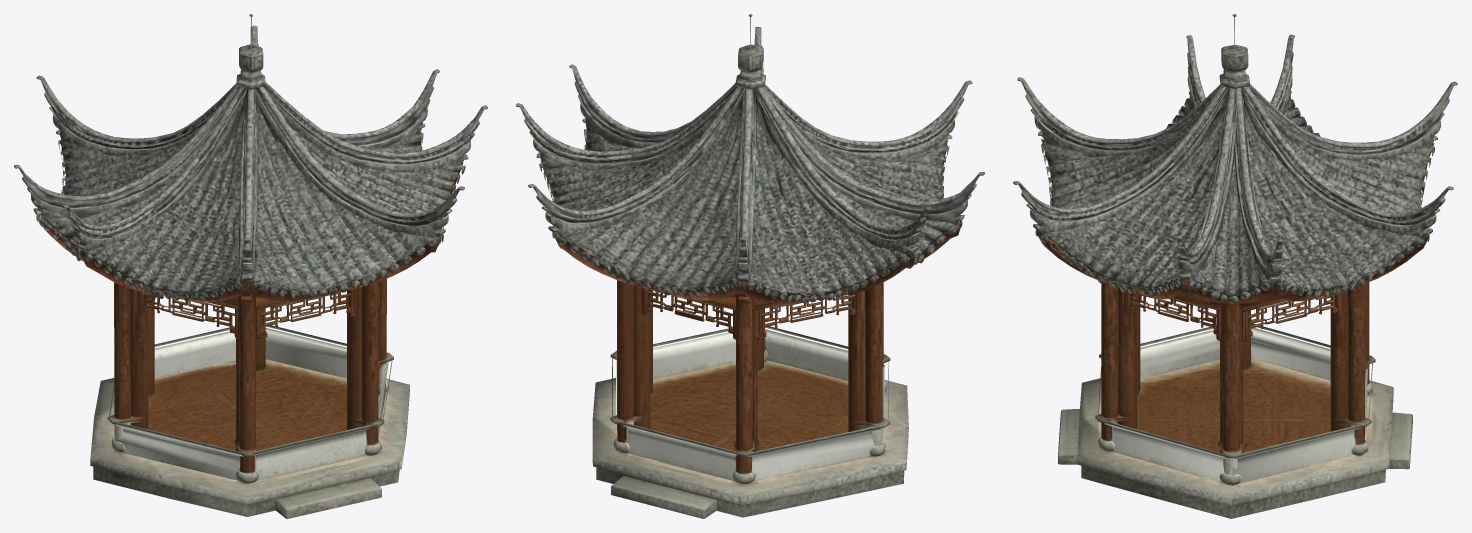
Rendered from station_0.glb.
The picture shows the model from 3 angles, left to right: view 1: azimuth 30°, elevation 25°; view 2: azimuth 150°, elevation 25°; view 3: azimuth 270°, elevation 25°; orthographic projection.
Parts seen in each view (by area): view 1: tripo_node_6d3cc7fc-00ab-4187-a01a-2e0920d70f90; view 2: tripo_node_6d3cc7fc-00ab-4187-a01a-2e0920d70f90; view 3: tripo_node_6d3cc7fc-00ab-4187-a01a-2e0920d70f90.
Boxes of the visible parts, bbox=[...] form: tripo_node_6d3cc7fc-00ab-4187-a01a-2e0920d70f90: bbox=[14, 14, 487, 518]; tripo_node_6d3cc7fc-00ab-4187-a01a-2e0920d70f90: bbox=[516, 14, 984, 518]; tripo_node_6d3cc7fc-00ab-4187-a01a-2e0920d70f90: bbox=[1013, 14, 1457, 518].
Size of the model in its own units: 0.9995 by 0.9731 by 0.9126.
Materials: 1 (1 with a texture image).
